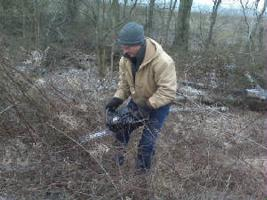person: (105, 23, 177, 185)
